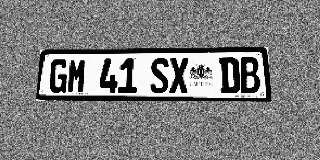1: (118, 58, 137, 93)
4: (99, 58, 119, 93)
B: (239, 57, 261, 94)
D: (219, 57, 240, 94)
G: (49, 59, 69, 93)
M: (67, 59, 87, 93)
S: (150, 58, 169, 93)
X: (170, 58, 189, 93)
